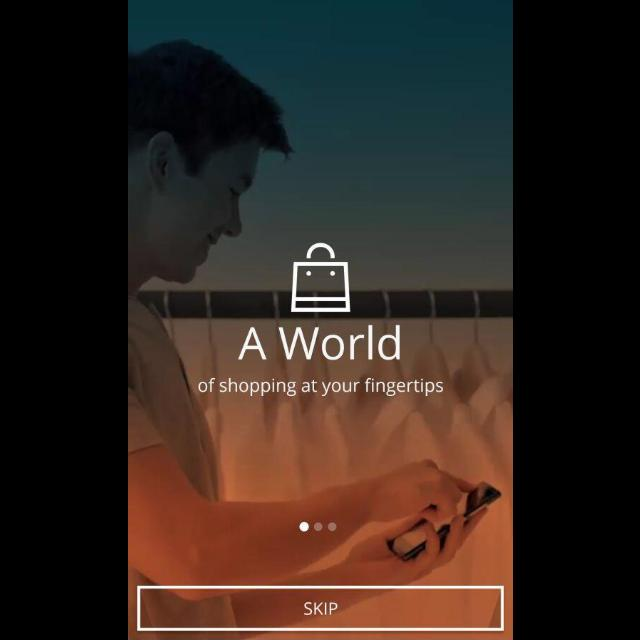backgroundimage: (128, 1, 512, 640)
image: (290, 243, 350, 313)
pageindicator: (298, 521, 338, 533)
text: (238, 324, 400, 362), (197, 378, 443, 397)
textbutton: (136, 585, 504, 631)
